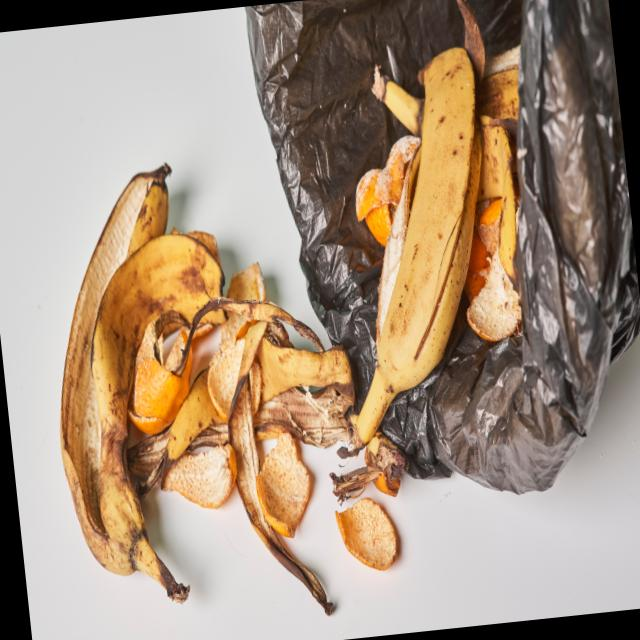banana_peel: (32, 43, 575, 618)
